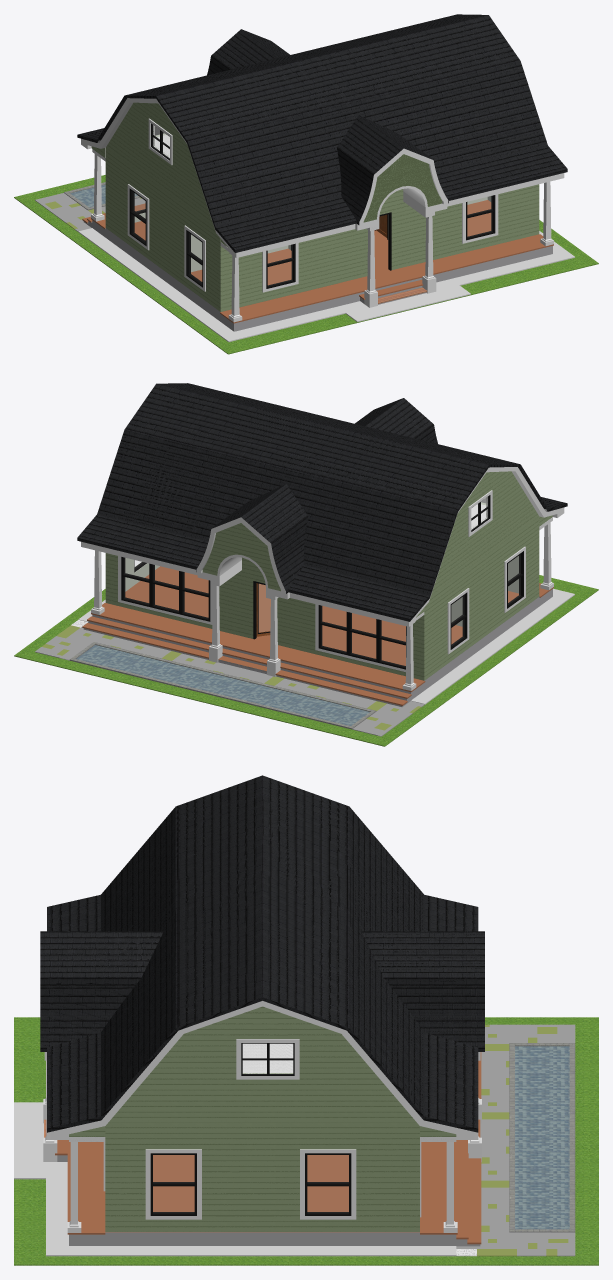
Rendered from Dutch House.glb.
3 renders of one model, top to bottom at view 1: azimuth 30°, elevation 25°; view 2: azimuth 150°, elevation 25°; view 3: azimuth 270°, elevation 25°, orthographic. The views are drawn at different scales.
Parts seen in each view (by area): view 1: instance_6.003, group_29.001, group_2.002, group_30.006, group_72, group_9.006, group_18, instance_2.001, instance_2, instance_5.012, instance_4, group_29 (+2 smaller); view 2: instance_6.003, group_30.006, group_2.002, group_29.001, group_72, group_18, group_5, group_9.006, instance_4, instance_3.001, instance_3, instance_4.018 (+4 smaller); view 3: instance_6.003, group_2.002, group_29.001, group_9, group_30.006, group_72, instance_4, group_5, instance_3, instance_2, group_18, group_4.002 (+5 smaller).
Part boxes in pixels (<box>): instance_6.003: <box>125,14,547,226</box>; group_29.001: <box>105,148,539,311</box>; group_2.002: <box>14,175,598,354</box>; group_30.006: <box>82,200,553,331</box>; group_72: <box>81,115,564,322</box>; group_9.006: <box>106,102,213,226</box>; group_18: <box>127,118,498,292</box>; instance_2.001: <box>214,196,356,252</box>; instance_2: <box>437,145,567,200</box>; instance_5.012: <box>363,154,442,222</box>; instance_4: <box>207,29,289,75</box>; group_29: <box>134,133,491,272</box>; instance_6.003: <box>97,383,519,595</box>; group_30.006: <box>82,566,553,706</box>; group_2.002: <box>14,575,598,746</box>; group_29.001: <box>105,517,539,680</box>; group_72: <box>81,398,564,690</box>; group_18: <box>118,490,525,672</box>; group_5: <box>76,645,369,725</box>; group_9.006: <box>431,471,539,595</box>; instance_4: <box>196,484,308,590</box>; instance_3.001: <box>288,565,430,621</box>; instance_3: <box>77,514,207,569</box>; instance_4.018: <box>202,523,280,591</box>; instance_6.003: <box>101,775,424,1116</box>; group_2.002: <box>14,1017,598,1265</box>; group_29.001: <box>105,1123,419,1231</box>; group_9: <box>108,1006,416,1122</box>; group_30.006: <box>44,1052,481,1246</box>; group_72: <box>40,931,481,1232</box>; instance_4: <box>361,931,484,1047</box>; group_5: <box>515,1046,569,1229</box>; instance_3: <box>419,1032,478,1132</box>; instance_2: <box>47,1032,104,1132</box>; group_18: <box>103,1039,421,1219</box>; group_4.002: <box>509,1043,575,1232</box>.
Size of the model in its own units: 16 by 7.75 by 16.
17 materials, 12 textured.
